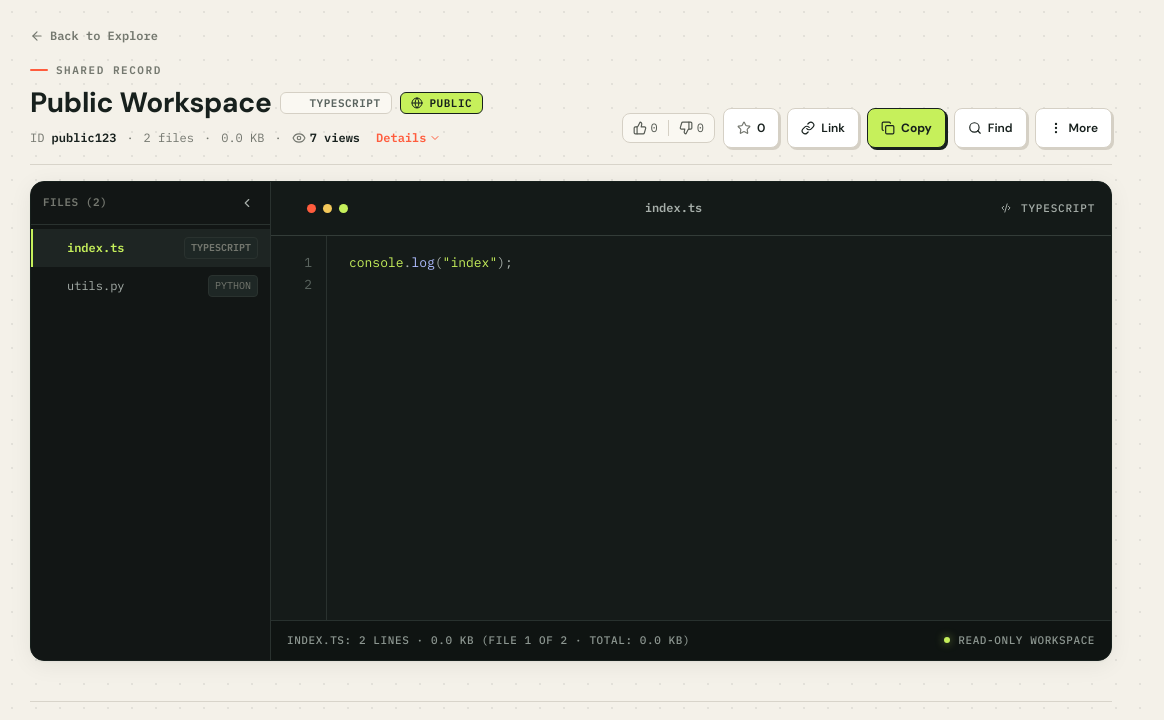
Test case: Sharing Everywhere UI › CLIP-01: clipboard success is announced only after the write promise resolves
Check: the heading "Public Workspace" is shown, box [30,86,272,120]
Click the button named "copy index.ts".
click(906, 128)  # box [867,108,946,148]
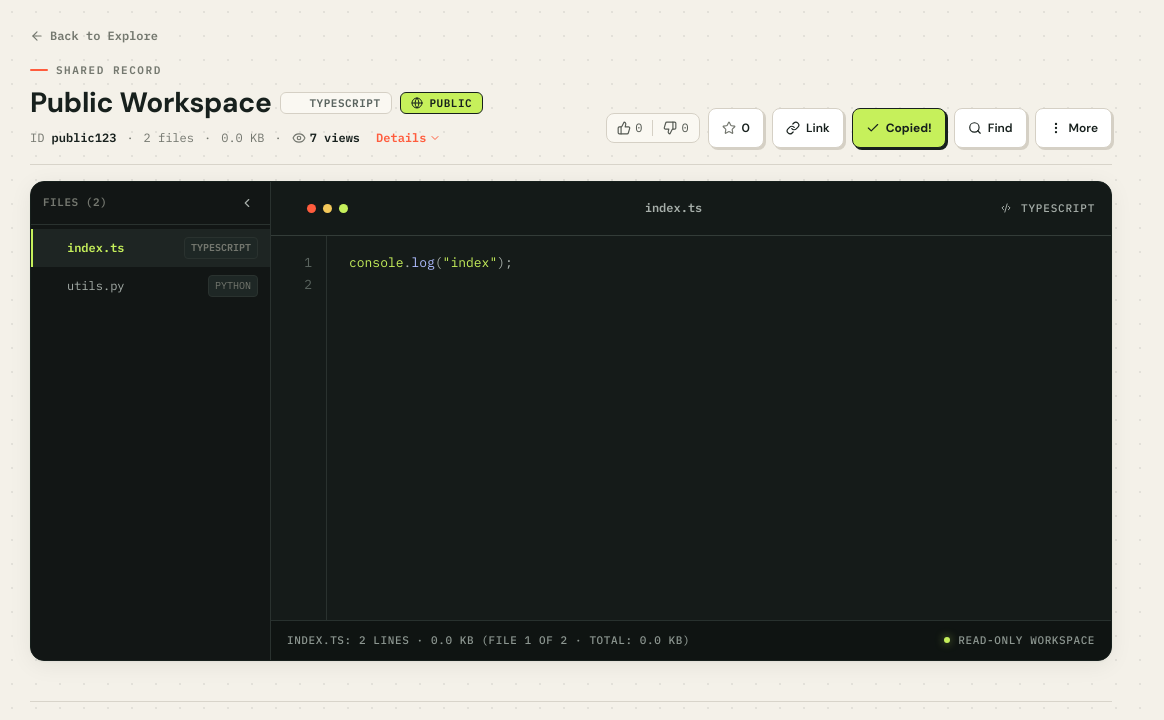
Check: the button "Copied!" is shown, box [886,119,932,137]
